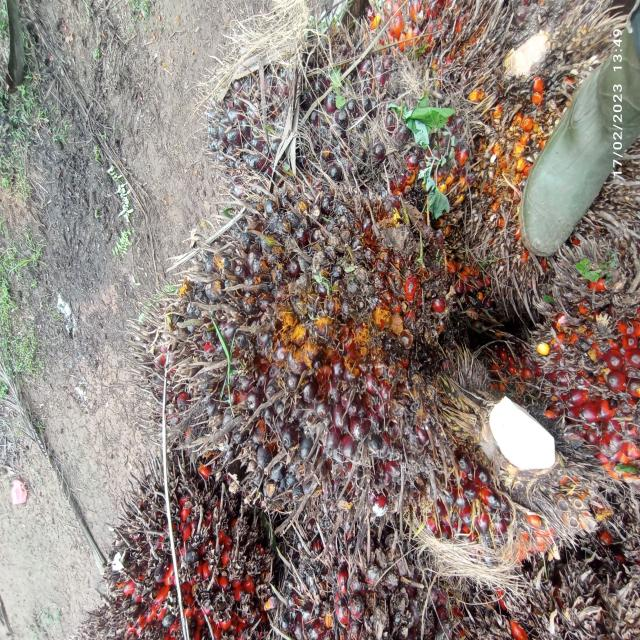fraksi 00: (207, 28, 495, 216)
fraksi 1: (109, 161, 524, 554)
fraksi 3: (514, 265, 640, 488)
fraksi 4: (56, 477, 283, 640)
